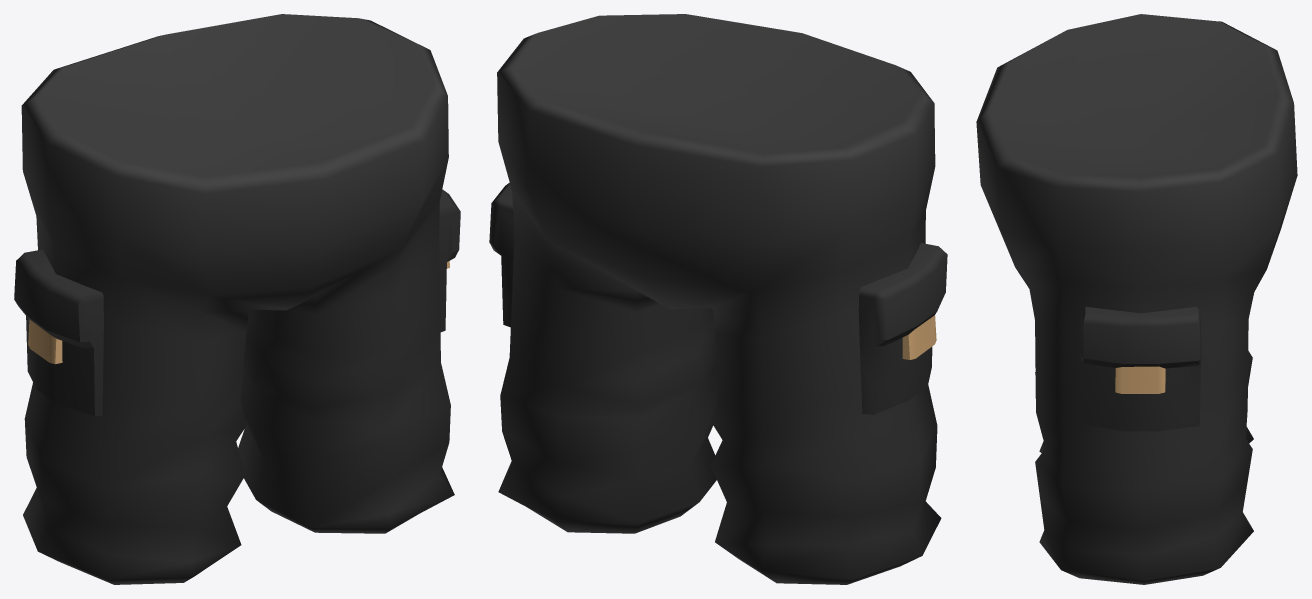
File: Bottom_20.fbx
3 views of the same model, side by side, from view 1: azimuth 30°, elevation 25°; view 2: azimuth 150°, elevation 25°; view 3: azimuth 270°, elevation 25° (orthographic). The views are drawn at different scales.
Visible parts, largest first — view 1: Bottom_20; view 2: Bottom_20; view 3: Bottom_20.
Part boxes in pixels (left/top/right/bottom): Bottom_20: left=14, top=14, right=460, bottom=584; Bottom_20: left=489, top=14, right=947, bottom=584; Bottom_20: left=976, top=14, right=1297, bottom=584.
Bounding box in the file's own units: 40.66 × 42.09 × 29.68.
